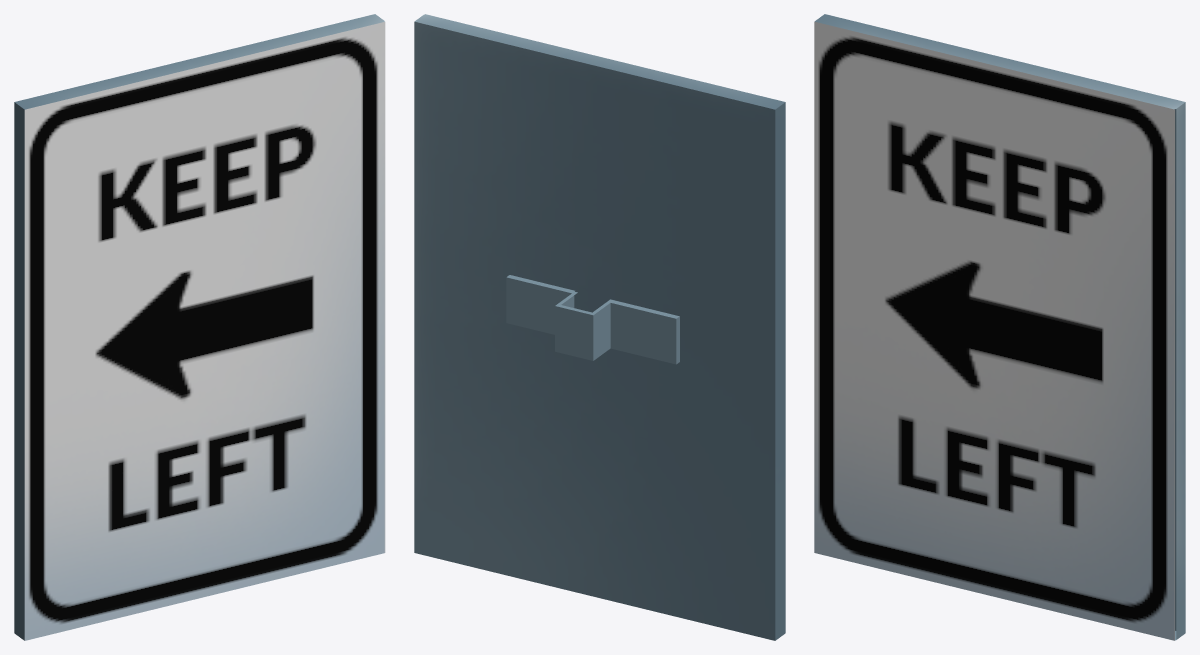
Rendered from Sign61.fbx.
3 views of the same model, side by side, from view 1: azimuth 30°, elevation 25°; view 2: azimuth 150°, elevation 25°; view 3: azimuth 330°, elevation 25° (orthographic).
Visible parts, largest first — view 1: Sign61; view 2: Sign61; view 3: Sign61.
Part boxes in pixels (<box>): Sign61: <box>14,14,385,640</box>; Sign61: <box>414,14,785,640</box>; Sign61: <box>814,14,1185,640</box>.
Size of the model in its own units: 1 by 0.1489 by 1.41.
